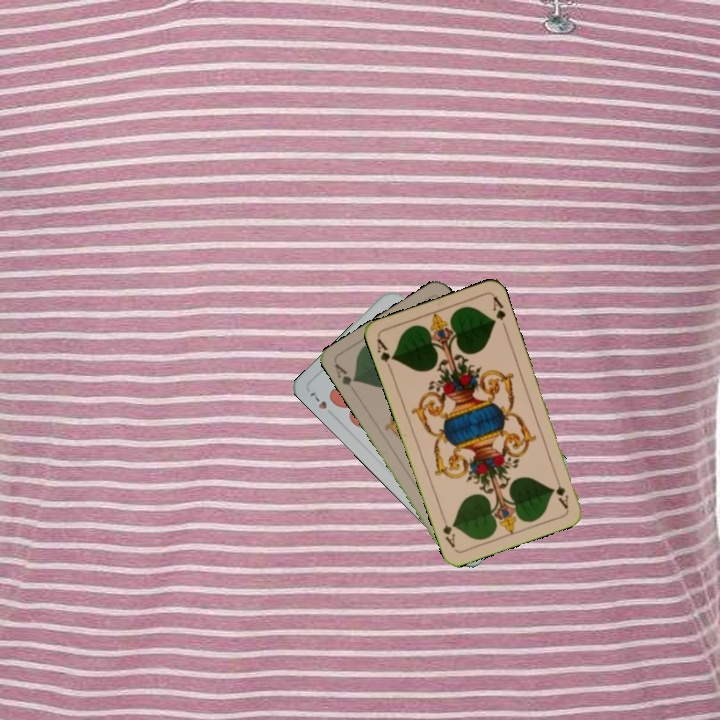GA: (373, 334, 398, 374), (331, 359, 359, 388), (551, 471, 571, 511)
H7: (306, 388, 337, 419)
